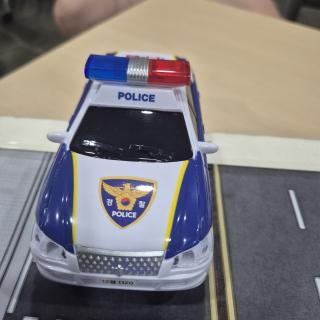Police_car: (31, 52, 219, 291)
